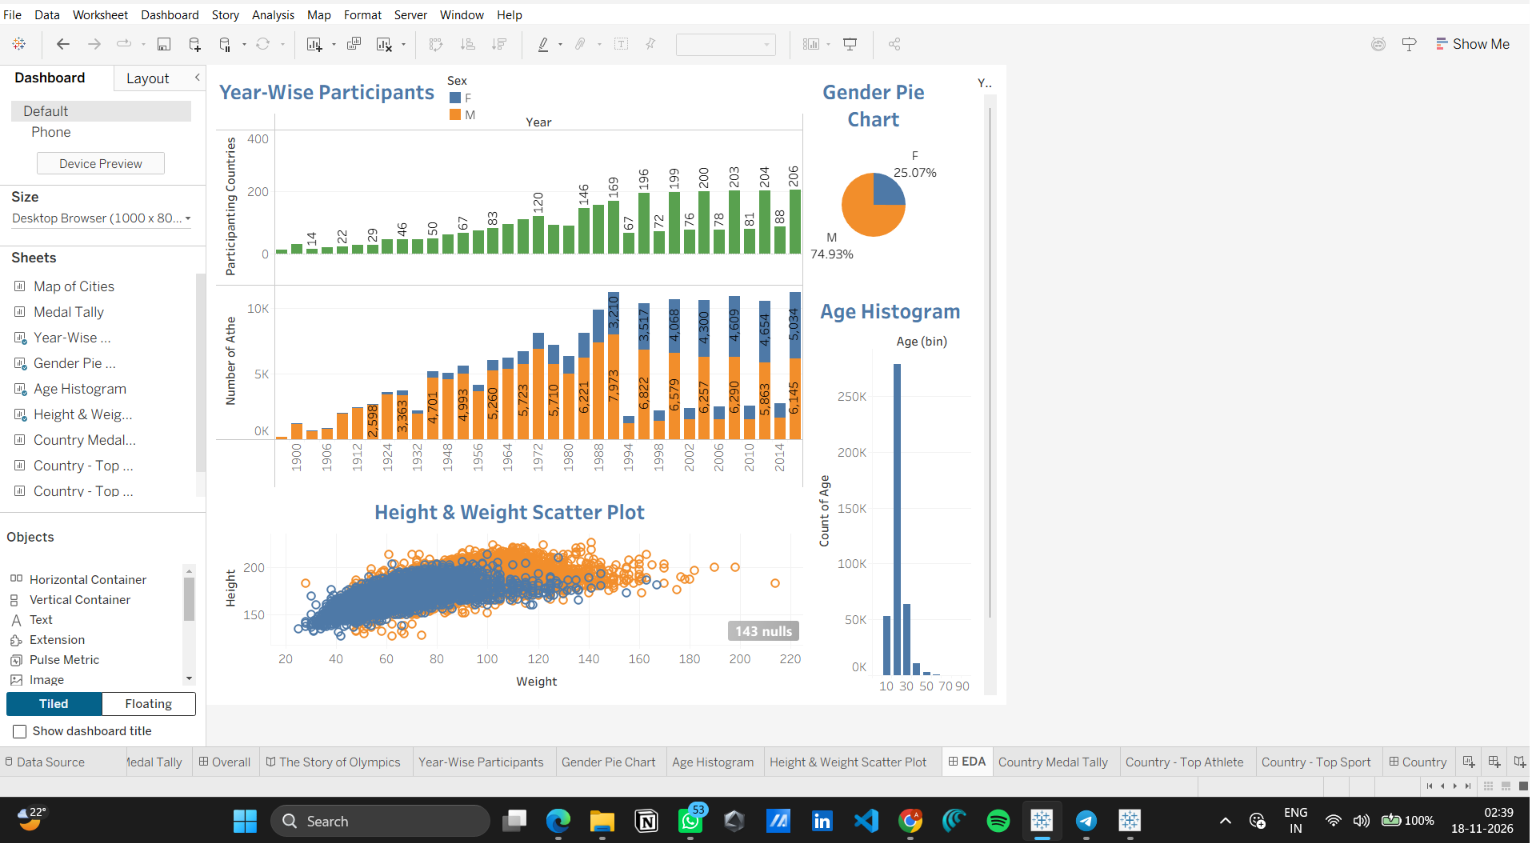

The dashboard page shown, as its layout file describes it:
{"tool":"tableau","page":{"name":"EDA","canvas":[1000,800],"ordinal":1},"visuals":[{"type":"worksheet","title":"Year-Wise Participants","mark":"Automatic","rows":["Country","ID"],"cols":["Year"],"box":[8,8,742,525]},{"type":"worksheet","title":"Gender Pie Chart","mark":"Pie","box":[750,8,210,274]},{"type":"filter","title":"Gender Pie Chart","param":"[federated.17pjy4u0fawu9s1e99aii0kdw74h].[none:Year:ok]","box":[960,8,32,784]},{"type":"legend","title":"Year-Wise Participants","param":"[federated.17pjy4u0fawu9s1e99aii0kdw74h].[none:Sex:nk]","box":[301,9,85,66]},{"type":"worksheet","title":"Age Histogram","mark":"Automatic","rows":["Age"],"cols":["Age (bin)"],"box":[750,282,210,510]},{"type":"worksheet","title":"Height & Weight Scatter Plot","mark":"Automatic","rows":["Height"],"cols":["Weight"],"box":[8,533,742,259]}]}

Visuals, with their boxes on the page's 1000x800 design canvas (x1, y1, x2, y2). These are canvas units, not pixel positions in the 1530x843 screenshot, which may show the page scaled, cropped or inside an application window:
"Year-Wise Participants" worksheet: detection(8, 8, 750, 533)
"Gender Pie Chart" worksheet (Pie marks): detection(750, 8, 960, 282)
"Gender Pie Chart" filter: detection(960, 8, 992, 792)
"Year-Wise Participants" legend: detection(301, 9, 386, 75)
"Age Histogram" worksheet: detection(750, 282, 960, 792)
"Height & Weight Scatter Plot" worksheet: detection(8, 533, 750, 792)
